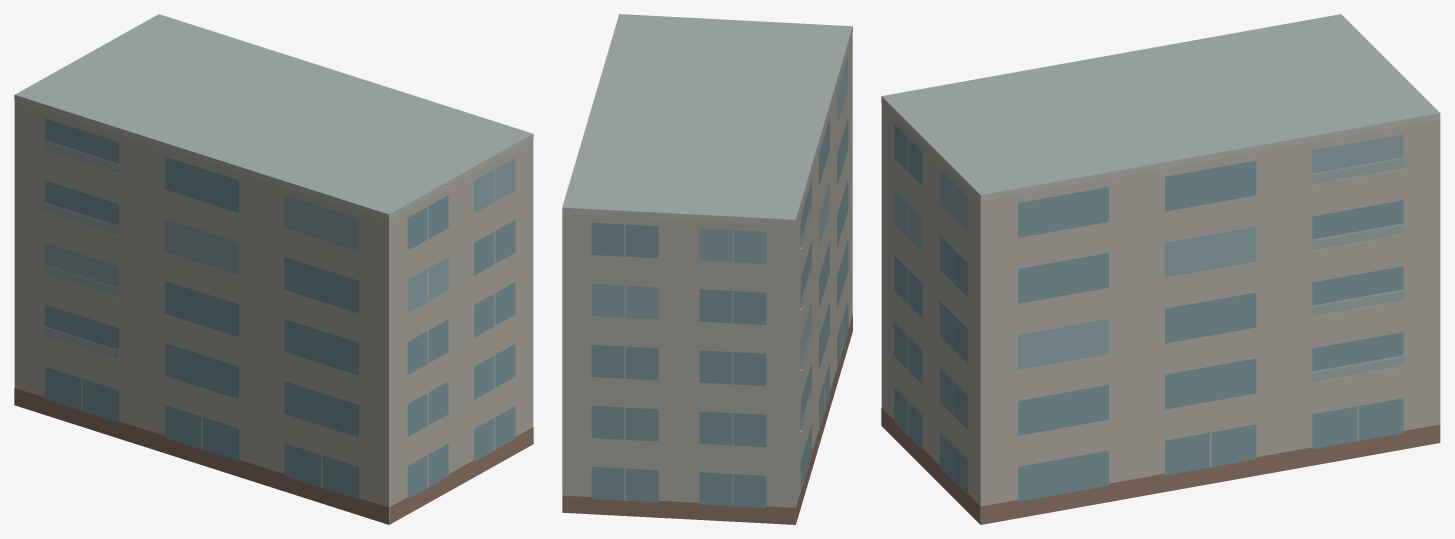
Rendered from survey-upis-32681238.glb.
The picture shows the model from 3 angles, left to right: view 1: azimuth 30°, elevation 25°; view 2: azimuth 150°, elevation 25°; view 3: azimuth 270°, elevation 25°; orthographic projection. The views are drawn at different scales.
Parts seen in each view (by area): view 1: survey-upis-32681238.tmp; view 2: survey-upis-32681238.tmp; view 3: survey-upis-32681238.tmp.
Boxes of the visible parts, bbox=[...] form: survey-upis-32681238.tmp: bbox=[14, 14, 533, 524]; survey-upis-32681238.tmp: bbox=[562, 14, 852, 524]; survey-upis-32681238.tmp: bbox=[881, 14, 1440, 524].
Size of the model in its own units: 15.32 by 13 by 19.97.
